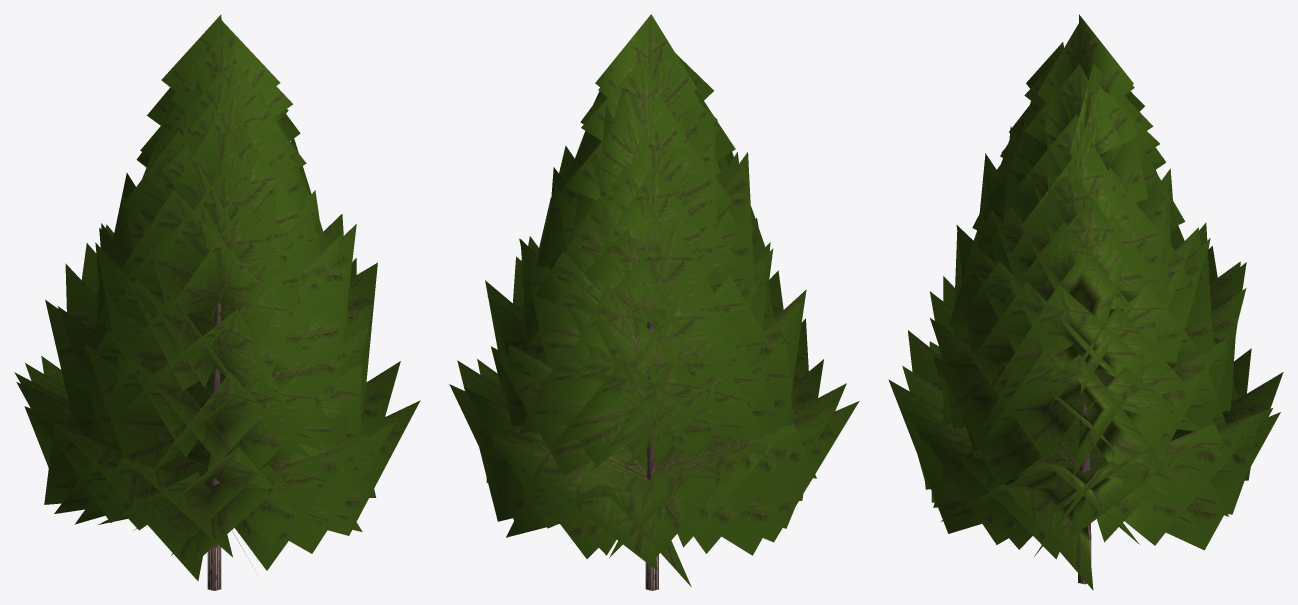
The model's file is Fir.fbx.
3 renders of one model, left to right at view 1: azimuth 30°, elevation 25°; view 2: azimuth 150°, elevation 25°; view 3: azimuth 270°, elevation 25°, orthographic.
Parts seen in each view (by area): view 1: Fir_LOD0; view 2: Fir_LOD0; view 3: Fir_LOD0.
Part boxes in pixels (box(x1,y1,x2,y2)): Fir_LOD0: box(14, 14, 420, 590); Fir_LOD0: box(449, 14, 859, 590); Fir_LOD0: box(888, 14, 1283, 590).
Size of what is drawn, in the model's own units: 496 by 796 by 501.
